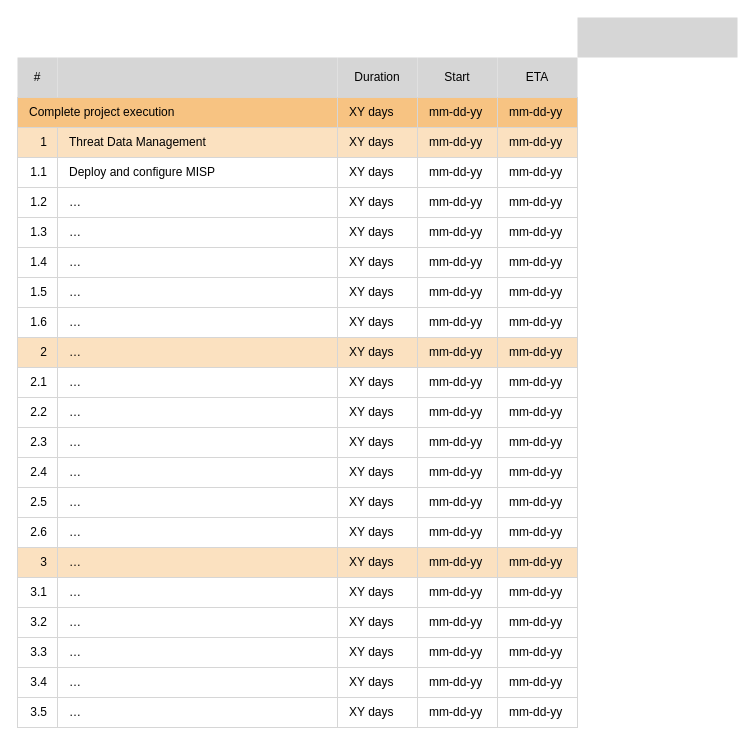
Some shapes in this 755 by 745 pixel diagram are drawn without their labels. Here are the shapes that lost their labels. From the top down, the centre of each, then its label:
pixel 657 37: Timeline
pixel 197 77: Task Name
